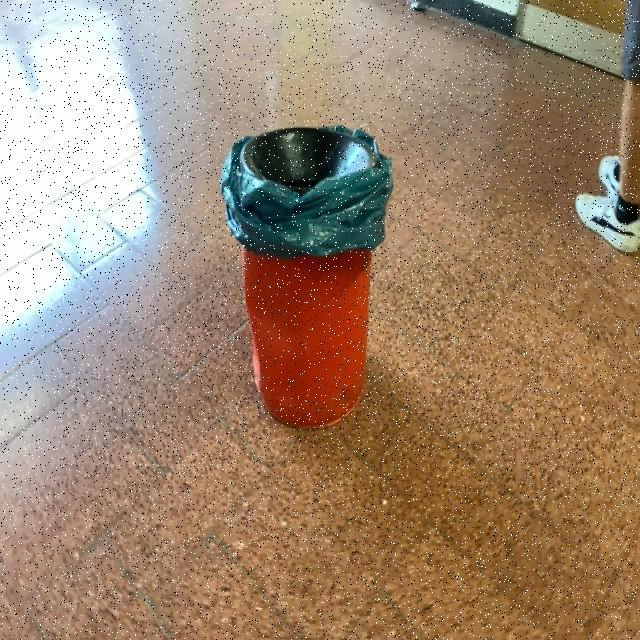garbage container: (211, 113, 399, 450)
